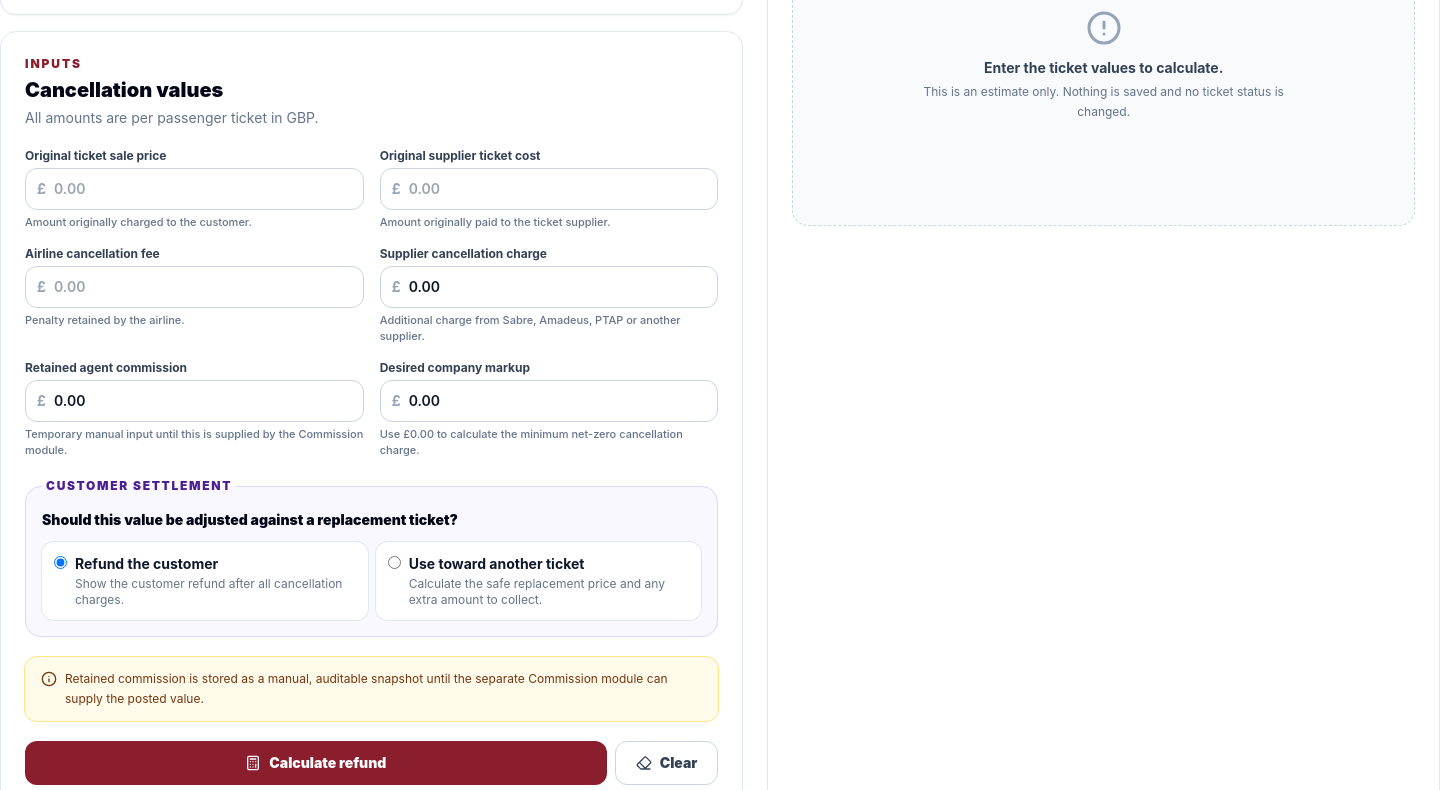
Test case: TicketCancellationCalculator › can prefill replacement costs from a different existing booking
The image size is (1440, 790).
(page scrolled)
Click the radio button labelled "Use toward another ticket": (394, 562) [388,556,401,569]
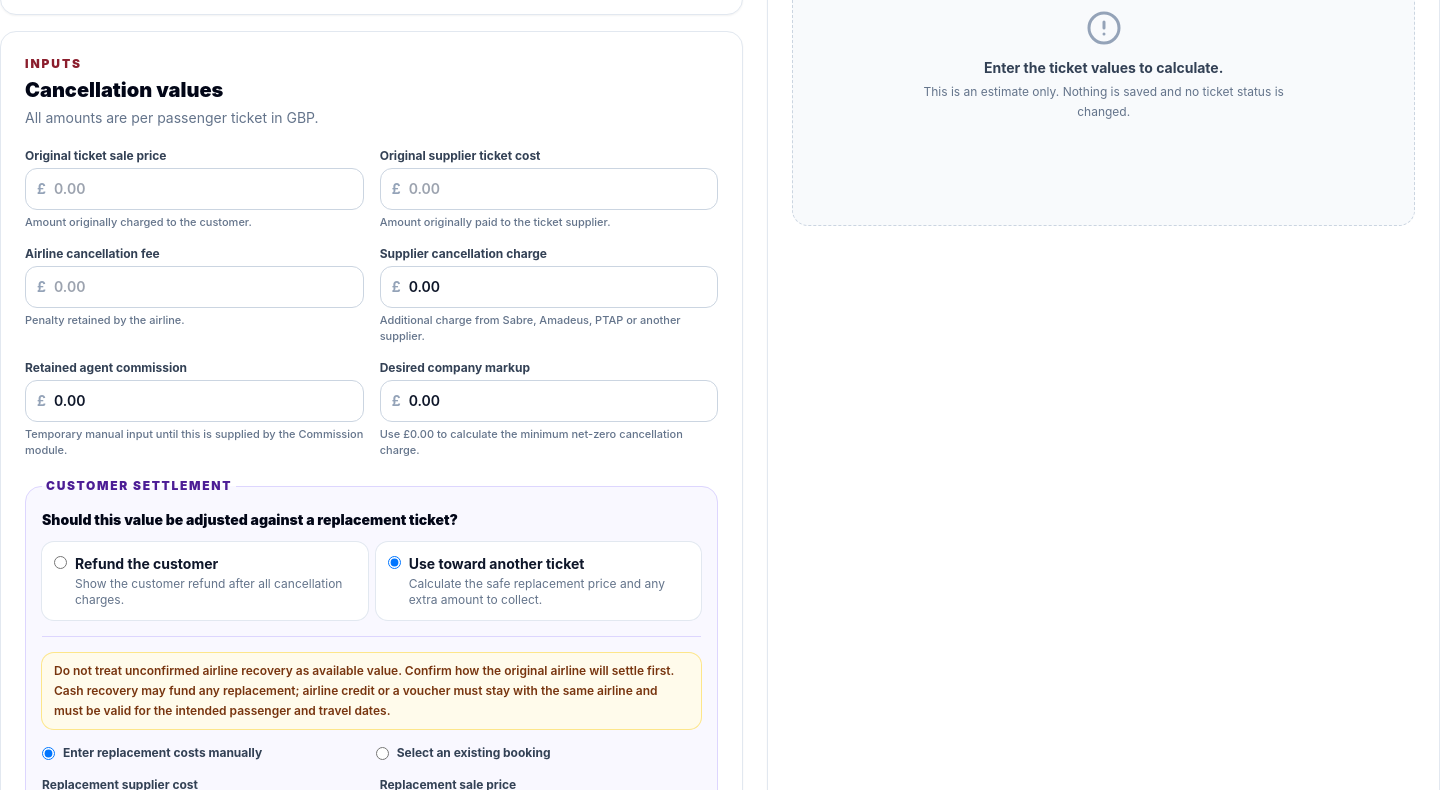
Click the radio button labelled "Select an existing booking": (382, 753) [376,746,389,760]
(page scrolled)
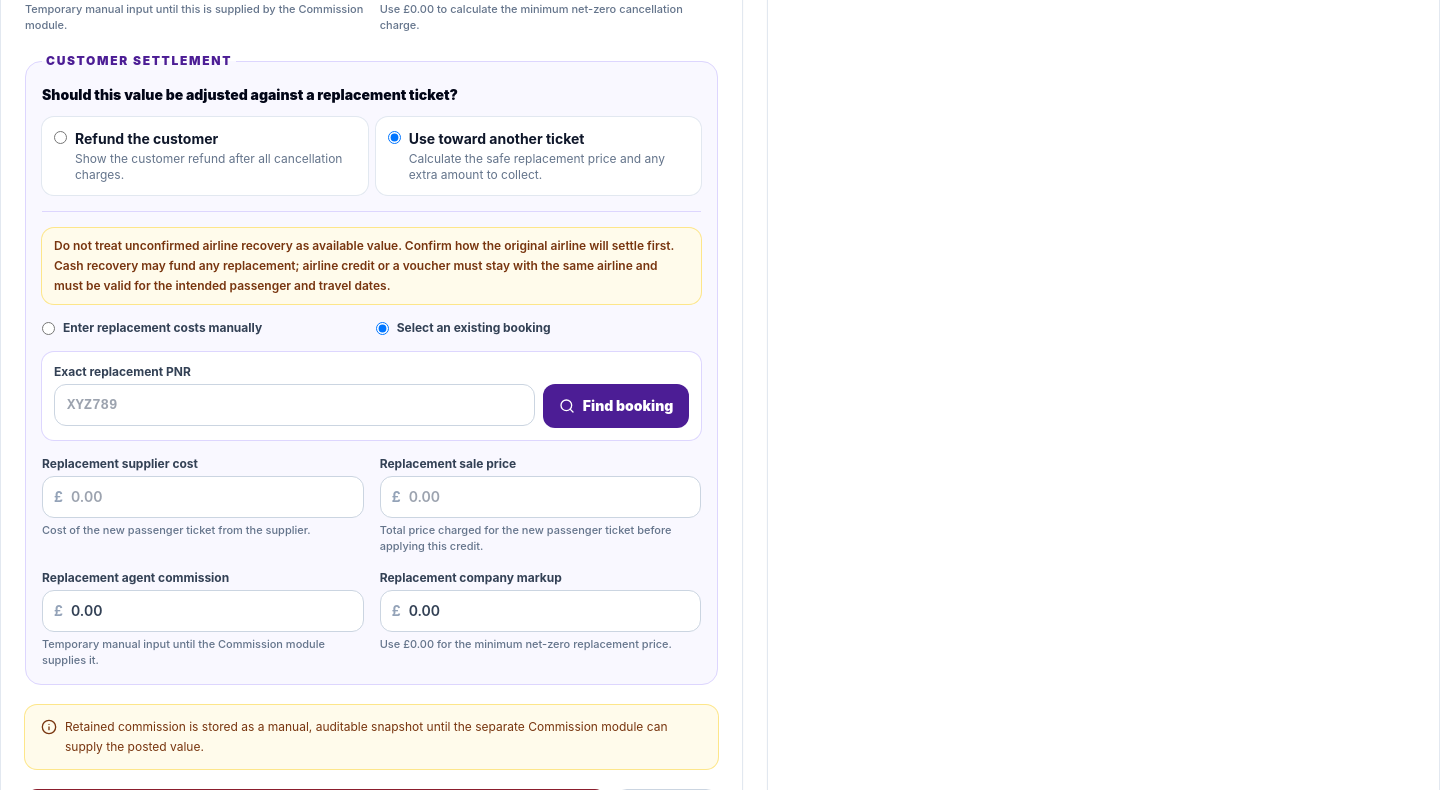
In the field labelled "Exact replacement PNR": (294, 405) [54,384,535,426], type "xy z789"
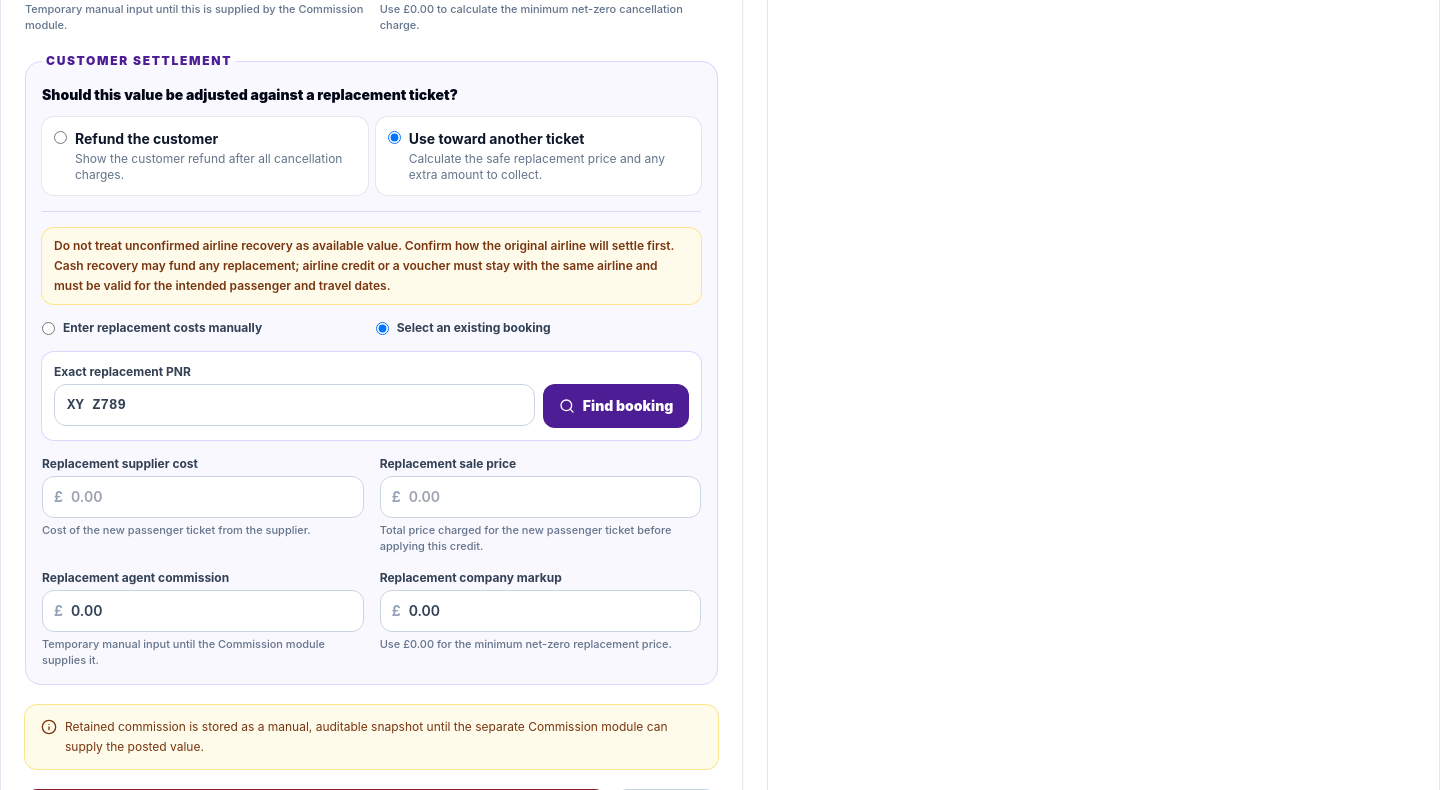
Click the button "Find booking": (616, 406) [543,384,689,428]
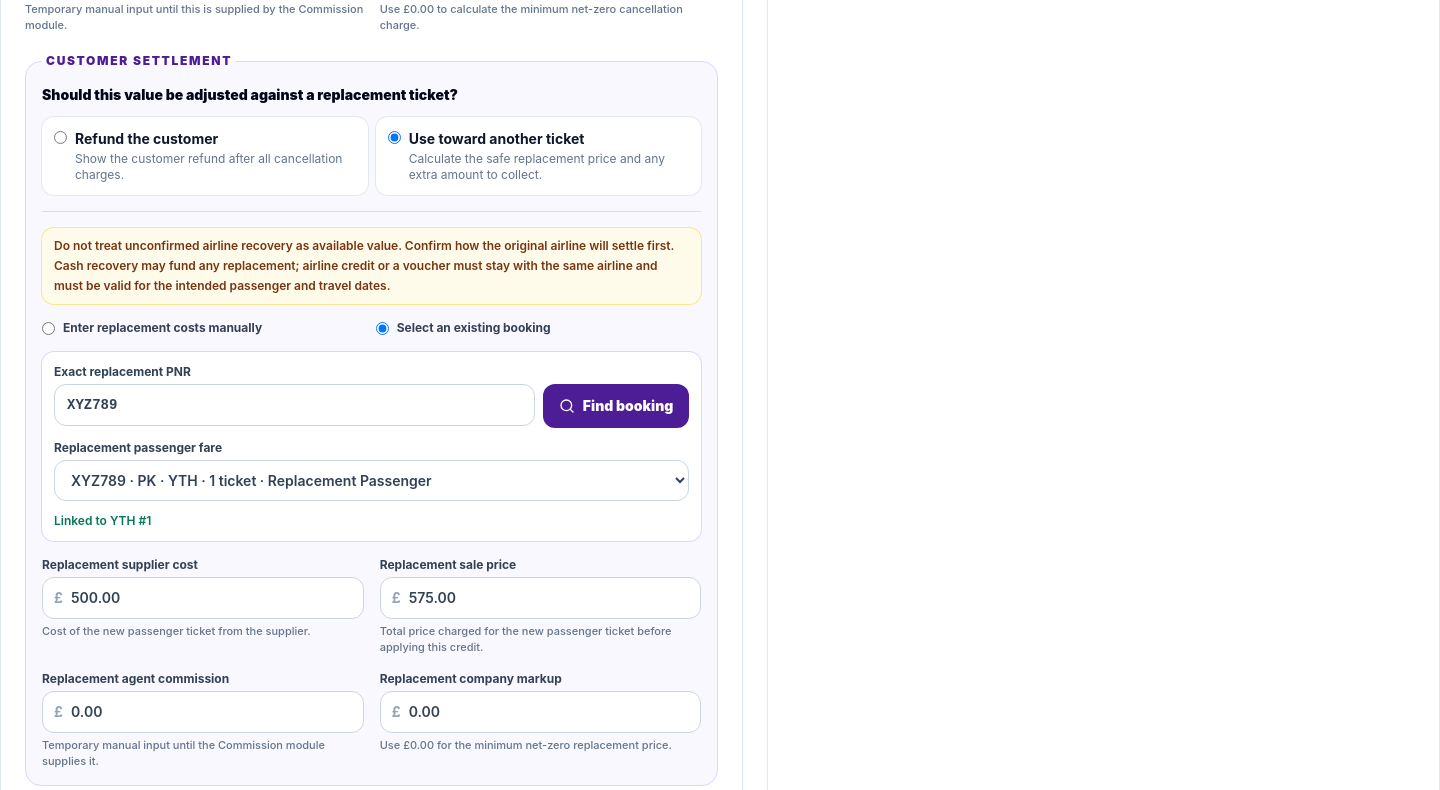
Check: the field labelled "Replacement supplier cost" holds "500.00", box [42,577,364,619]
Check: the field labelled "Replacement sale price" holds "575.00", box [380,577,701,619]
